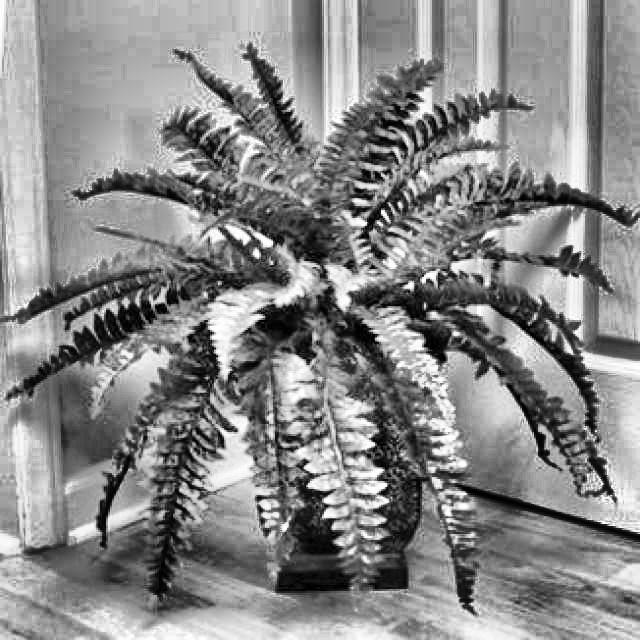plants: (31, 42, 632, 606)
